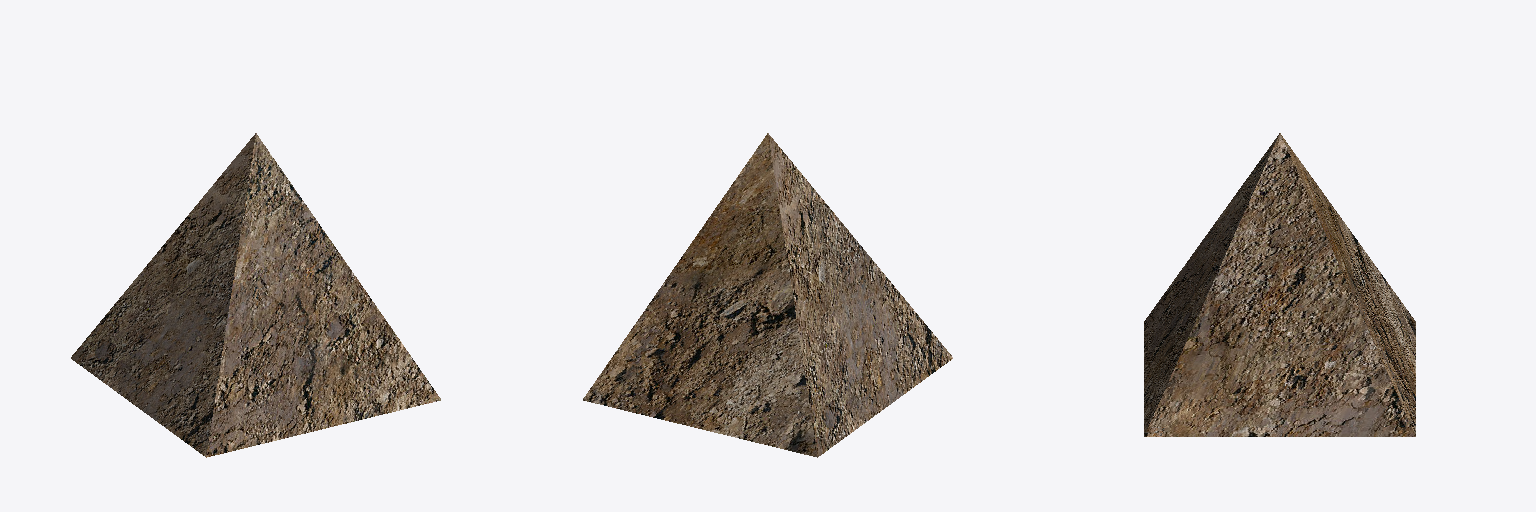
3 views of the same model, side by side, from view 1: azimuth 30°, elevation 25°; view 2: azimuth 150°, elevation 25°; view 3: azimuth 270°, elevation 25° (orthographic).
Parts seen in each view (by area): view 1: Cube_Cube.002; view 2: Cube_Cube.002; view 3: Cube_Cube.002.
Part boxes in pixels (left/top/right/bottom): Cube_Cube.002: left=71, top=133, right=440, bottom=457; Cube_Cube.002: left=583, top=133, right=952, bottom=457; Cube_Cube.002: left=1144, top=133, right=1415, bottom=436.
Size of the model in its own units: 10.05 by 10.05 by 10.05.
Materials: 1 (1 with a texture image).